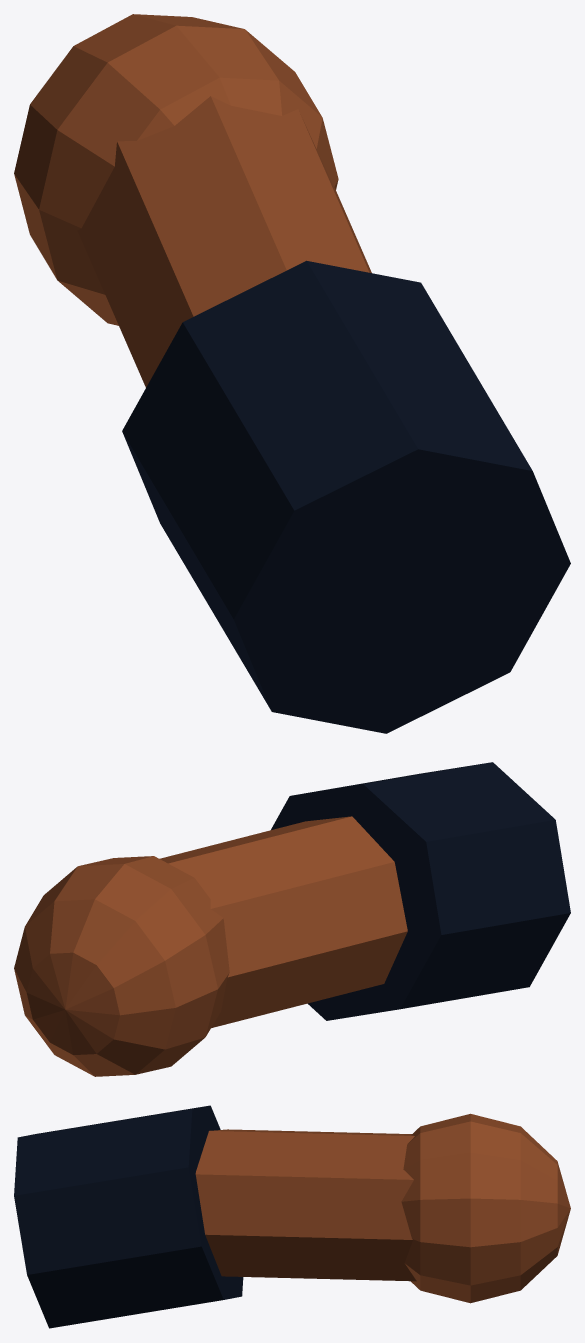
The model's file is Resident3LeftArm.obj.
3 renders of one model, top to bottom at view 1: azimuth 30°, elevation 25°; view 2: azimuth 150°, elevation 25°; view 3: azimuth 270°, elevation 25°, orthographic. The views are drawn at different scales.
Parts seen in each view (by area): view 1: Resident3LeftArm; view 2: Resident3LeftArm; view 3: Resident3LeftArm.
Part boxes in pixels (x1=…): Resident3LeftArm: x1=14, y1=14, x2=570, y2=733; Resident3LeftArm: x1=14, y1=762, x2=570, y2=1076; Resident3LeftArm: x1=14, y1=1105, x2=570, y2=1328.
Bounding box in the file's own units: 33.37 × 30.65 × 63.77.
